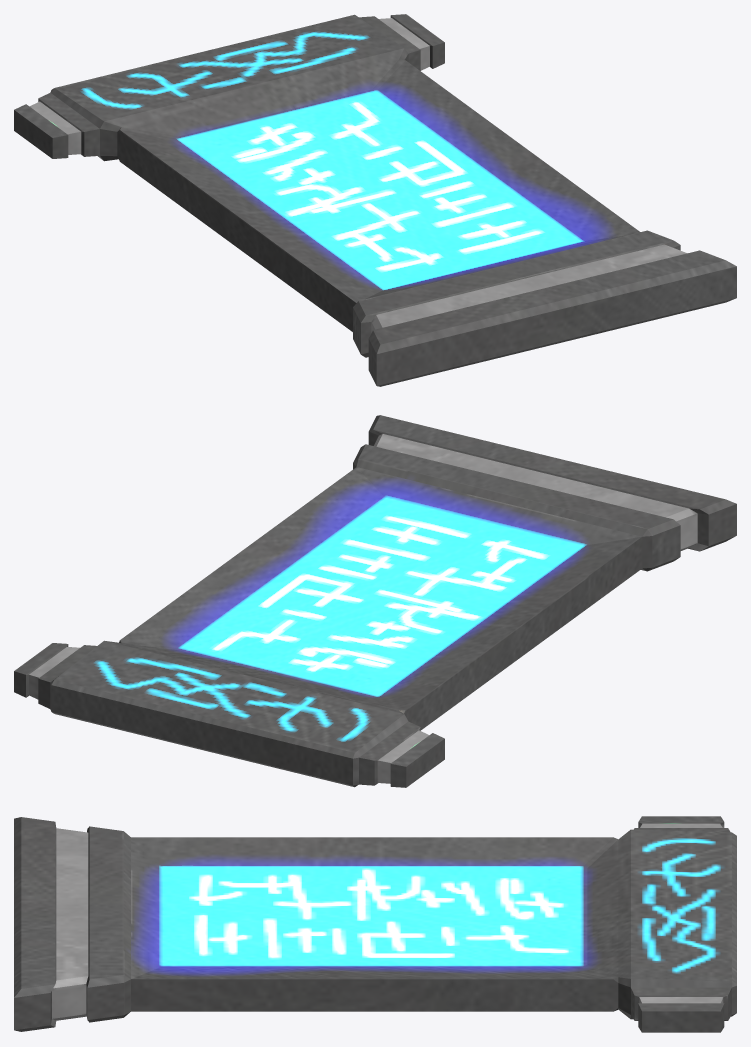
The model's file is Document.fbx.
3 views of the same model, one above another, from view 1: azimuth 30°, elevation 25°; view 2: azimuth 150°, elevation 25°; view 3: azimuth 270°, elevation 25° (orthographic).
Visible parts, largest first — view 1: Document; view 2: Document; view 3: Document.
Boxes of the visible parts, x1,y1,x2,y2 form: Document: (14,14,736,386); Document: (14,415,736,787); Document: (14,816,736,1032).
Bounding box in the file's own units: 97.5 × 10.03 × 153.
